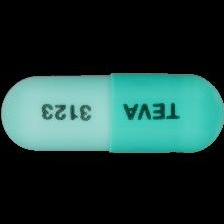33261-167: (0, 0, 224, 224)
